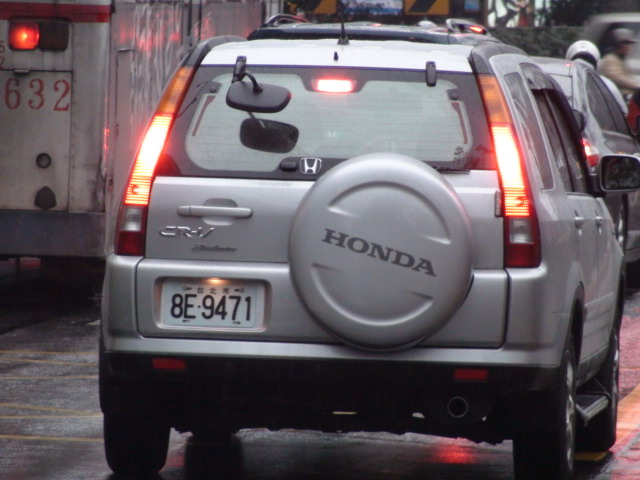plate: (166, 280, 256, 329)
